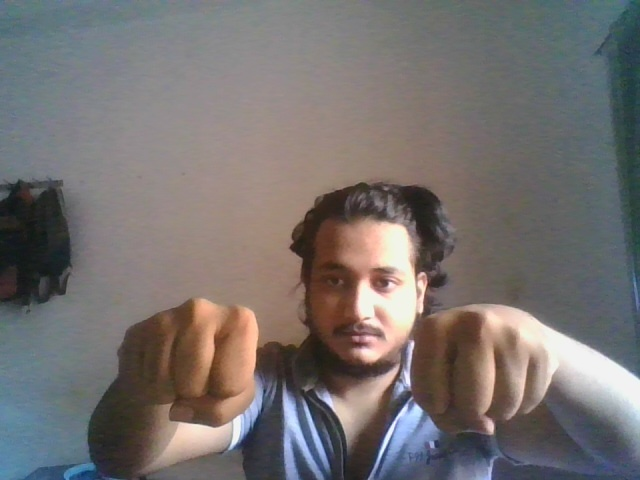Close: (410, 302, 560, 437), (116, 296, 256, 428)
